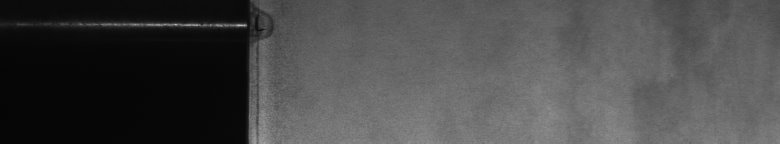hb: (260, 6, 280, 48)
